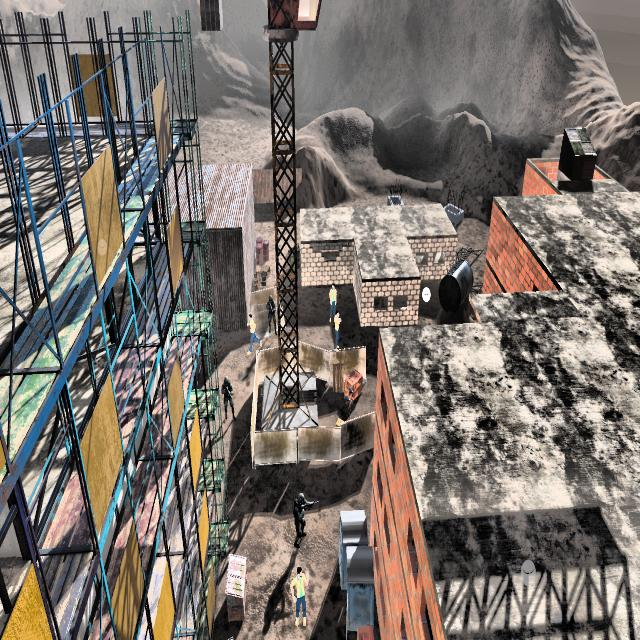bad: (286, 479, 313, 551), (219, 371, 235, 424), (265, 291, 280, 340)
good: (286, 563, 312, 634), (242, 312, 259, 356), (331, 304, 342, 350), (327, 279, 337, 320)
